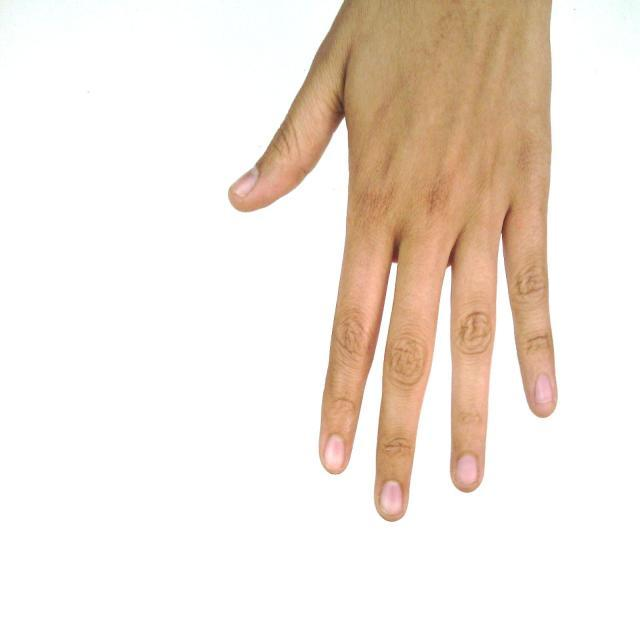Fingernail: (230, 167, 260, 198), (324, 434, 346, 472), (381, 480, 403, 517), (457, 454, 478, 486), (535, 372, 553, 403)
